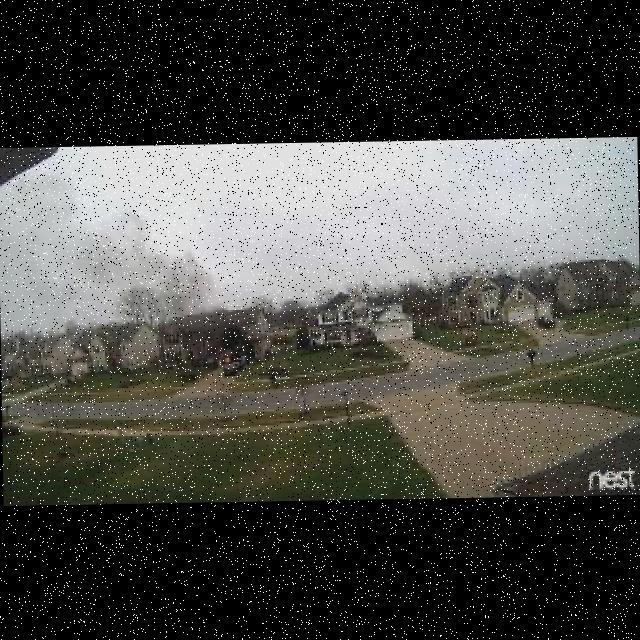Fire: (225, 354, 229, 360)
Smoke: (0, 181, 214, 328)
